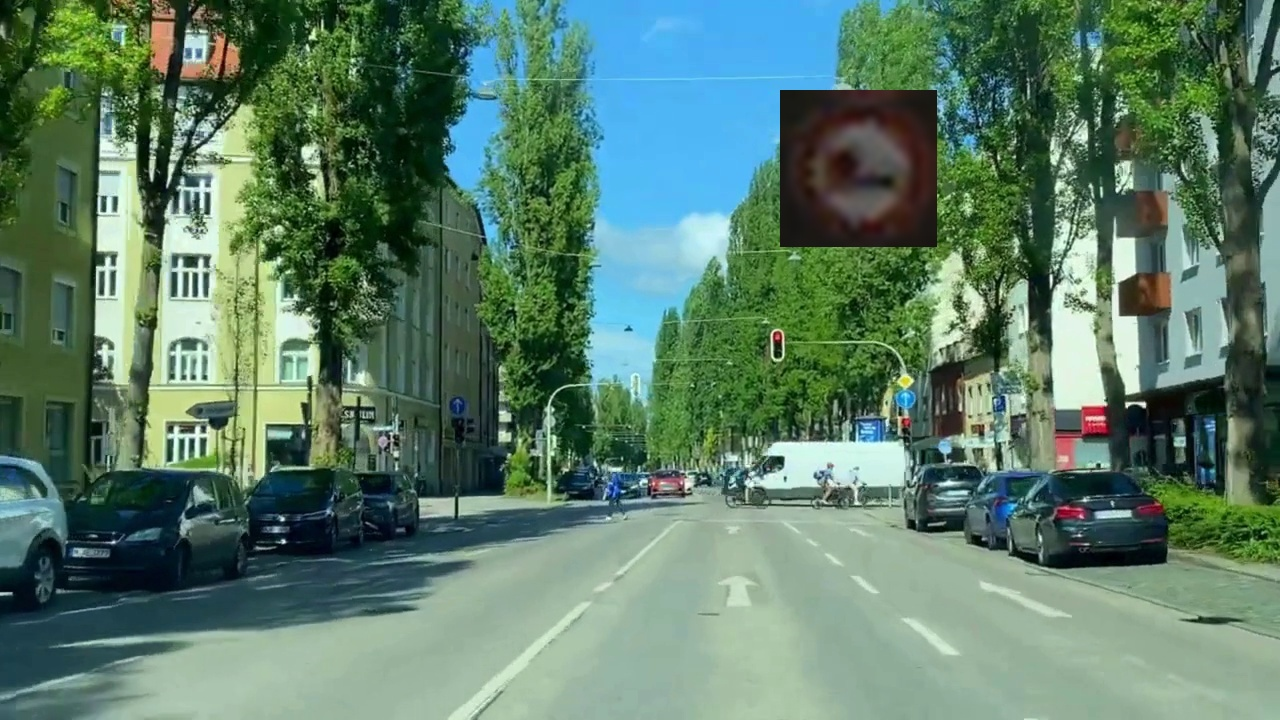No pass >3.5t: (780, 90, 937, 247)
